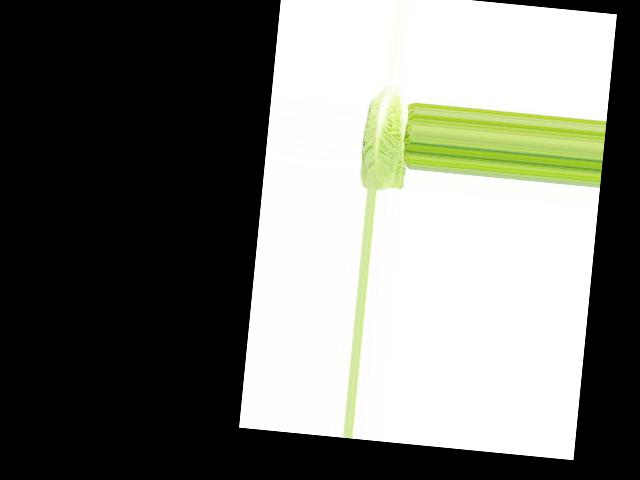lettuce: (351, 83, 411, 193)
